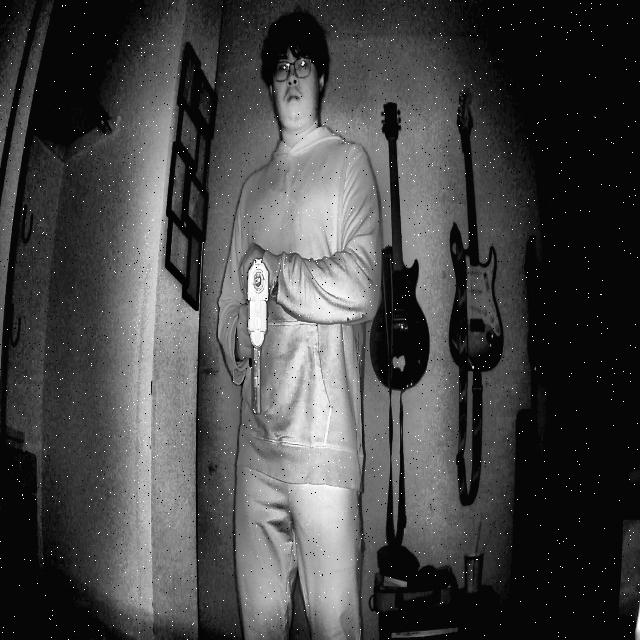Nerf_Blaster: (228, 252, 282, 422)
